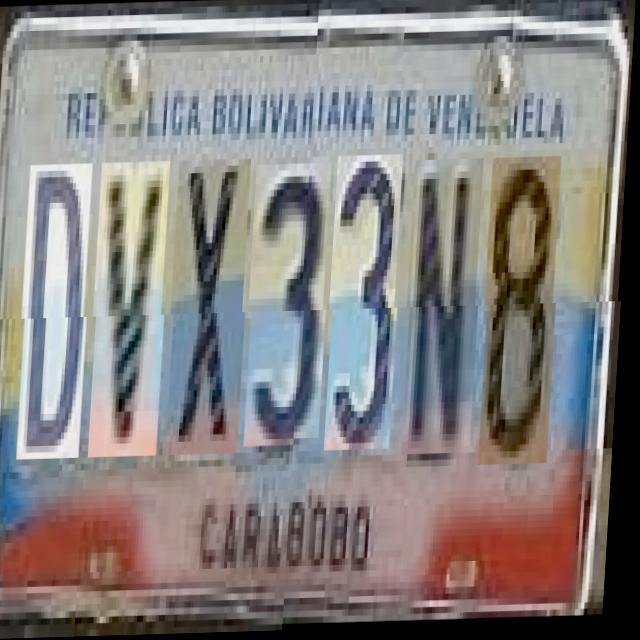3: (249, 165, 337, 448), (329, 163, 408, 459)
8: (484, 166, 566, 475)
D: (22, 164, 98, 460)
N: (407, 168, 489, 464)
V: (94, 162, 175, 458)
X: (172, 160, 256, 456)
